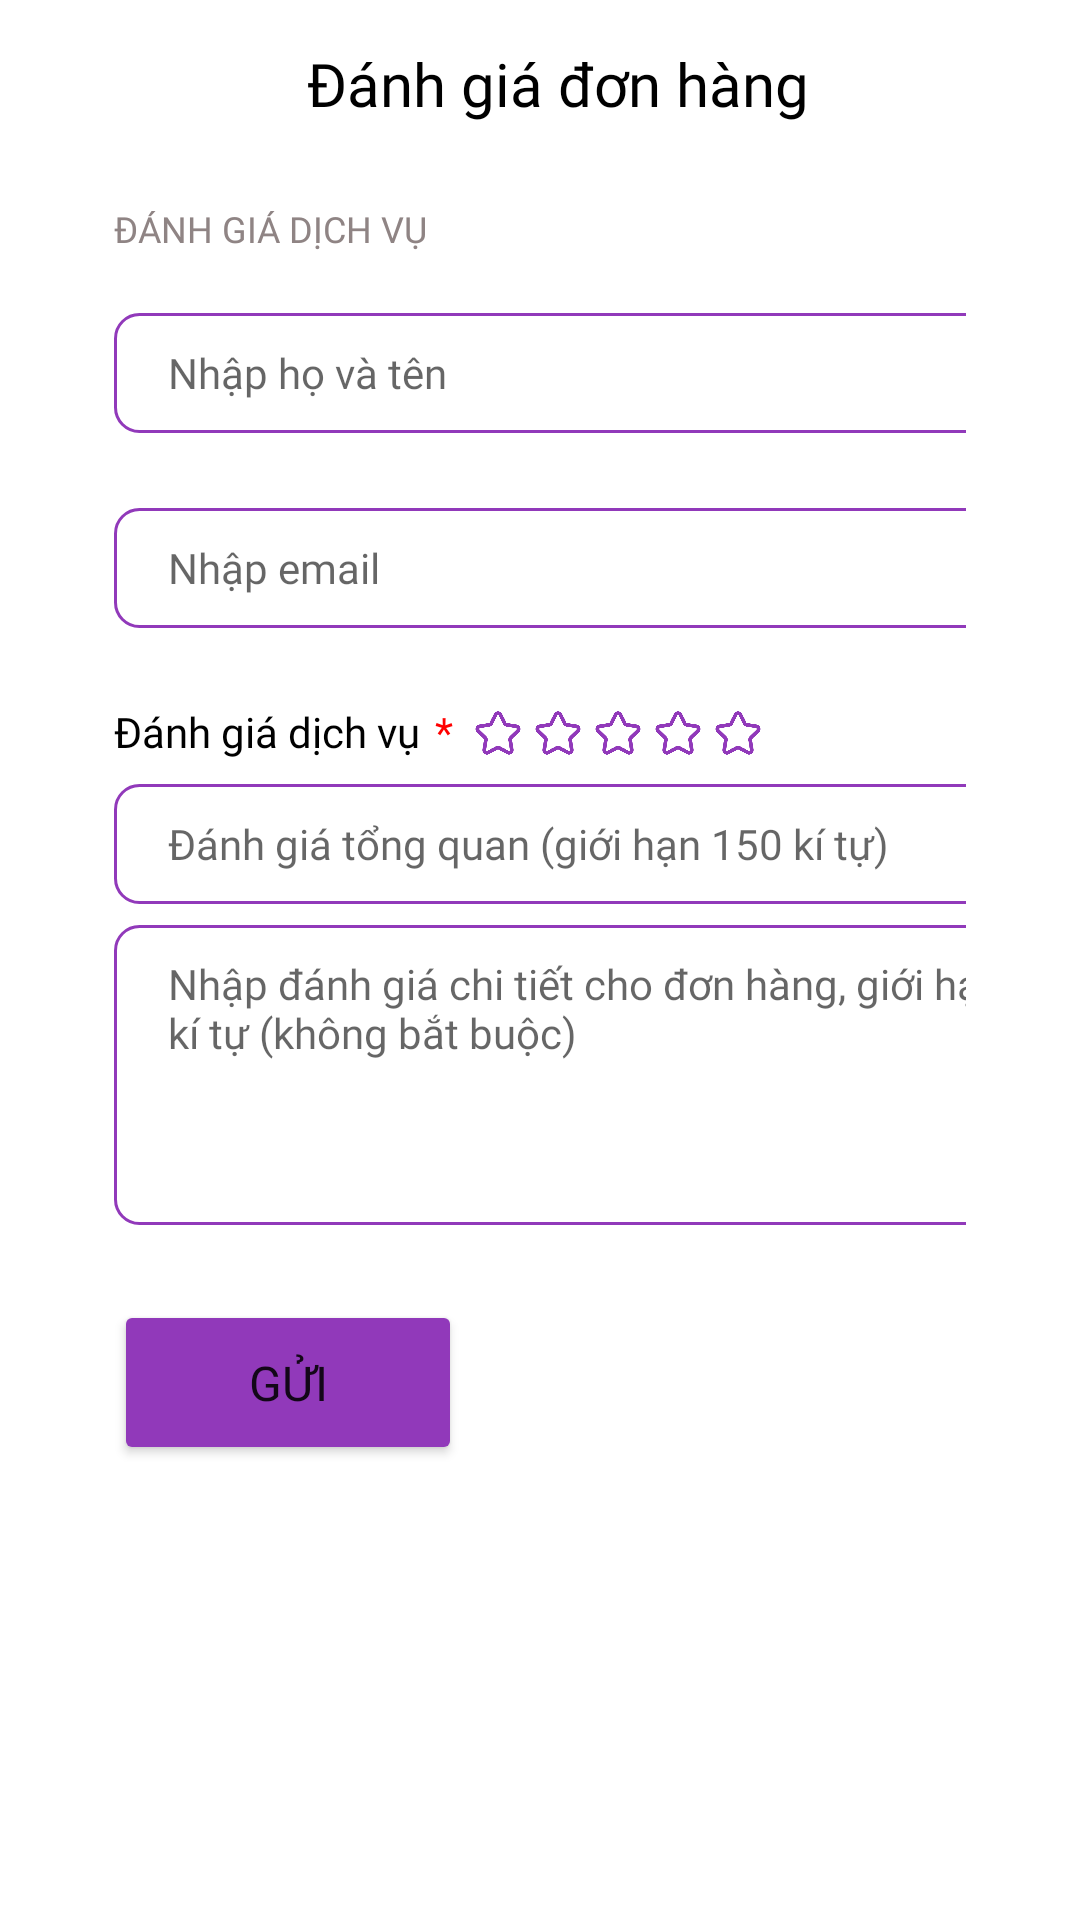

Screen size 1080px x 1920px. Icon name, then its center in pixels as (x=x, y=y):
rating: (x=498, y=733), (x=558, y=733), (x=618, y=733), (x=678, y=733), (x=738, y=733)
